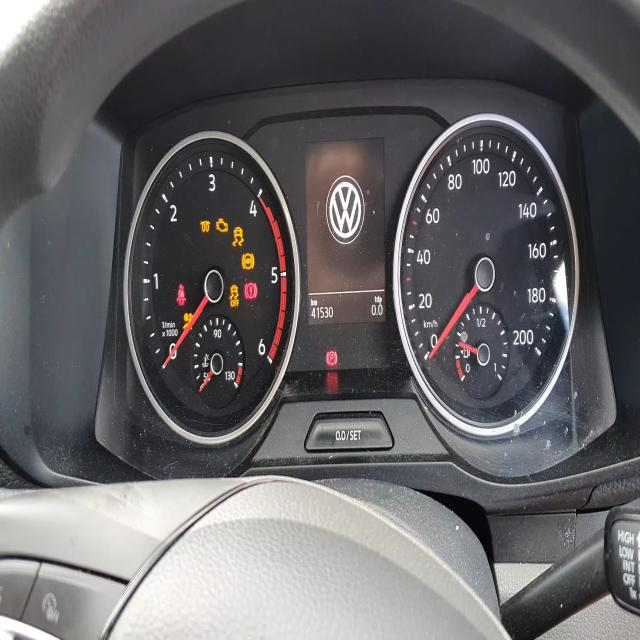Anti Lock Braking System: (241, 252, 255, 271)
Braking System Issue: (244, 282, 258, 300)
Check Engine: (216, 218, 228, 232)
Electronic Stability Problem -ESP-: (232, 226, 244, 248)
SRS-Airbag: (183, 312, 194, 331)
